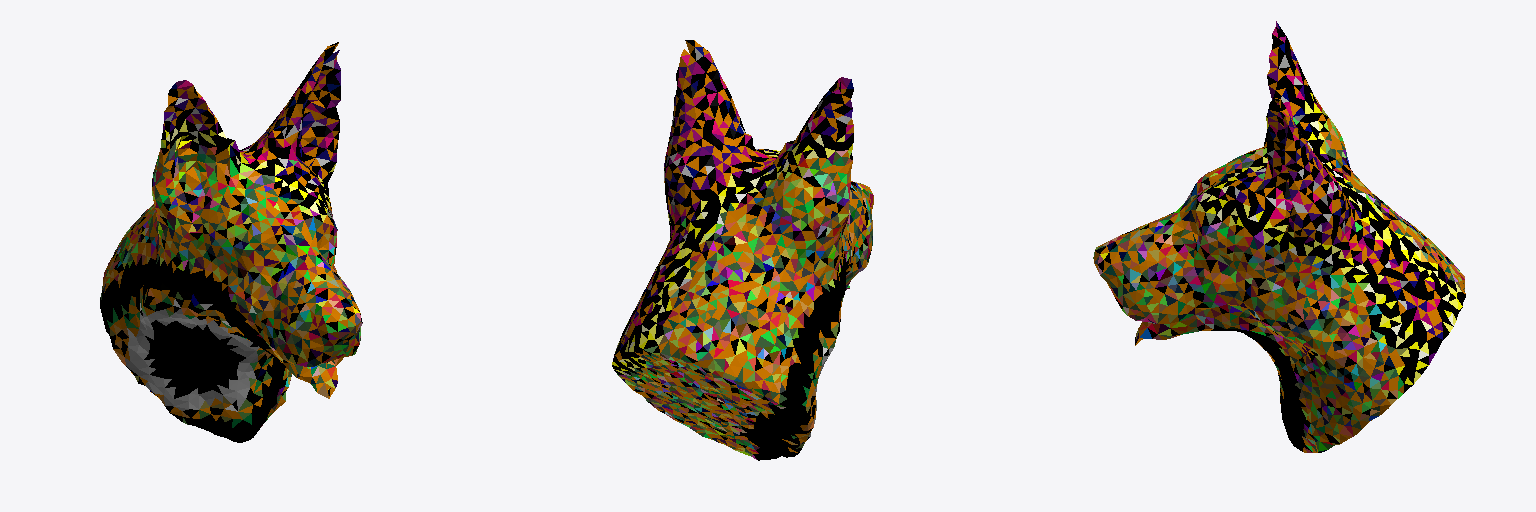
Rendered from german-downsampled.obj.
The picture shows the model from 3 angles: view 1: azimuth 30°, elevation 25°; view 2: azimuth 150°, elevation 25°; view 3: azimuth 270°, elevation 25°; orthographic projection.
Size of the model in its own units: 0.9273 by 1.88 by 1.62.